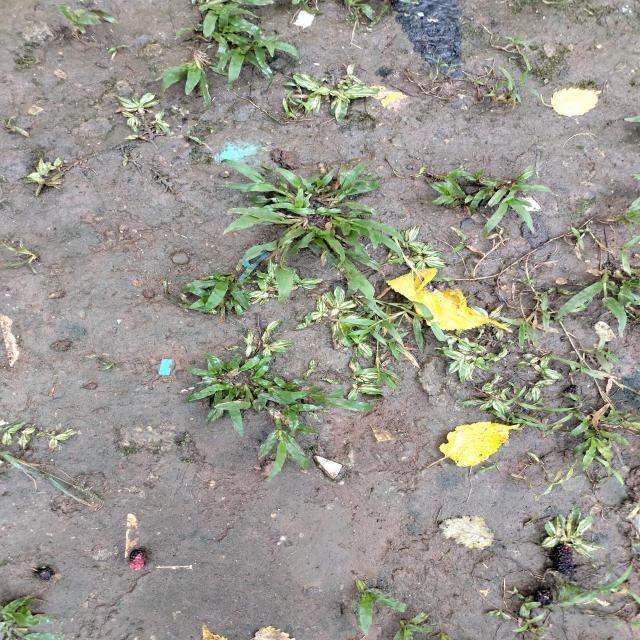rambat atas: (546, 561, 634, 608), (388, 302, 448, 356), (334, 311, 406, 348), (589, 231, 640, 279), (347, 354, 403, 396), (573, 332, 622, 376), (498, 300, 541, 348), (497, 62, 541, 104), (383, 331, 422, 363), (557, 356, 606, 381), (593, 455, 624, 489), (346, 324, 389, 346), (519, 411, 574, 428), (532, 468, 564, 497), (510, 610, 547, 634), (515, 400, 581, 412), (419, 53, 445, 82), (536, 292, 552, 335), (483, 78, 515, 98), (501, 385, 527, 407), (502, 33, 535, 50), (450, 225, 469, 253), (570, 225, 588, 251), (558, 390, 583, 408), (438, 62, 466, 78), (607, 619, 640, 631), (473, 461, 499, 476), (282, 98, 298, 119), (412, 166, 430, 184), (564, 458, 578, 481), (293, 98, 312, 114), (280, 82, 302, 93), (466, 74, 486, 86)
rambat bawah: (553, 267, 628, 338), (330, 208, 408, 266), (256, 411, 312, 483), (274, 221, 346, 272), (350, 576, 411, 636), (180, 271, 249, 324), (221, 206, 308, 248), (154, 53, 213, 110), (328, 160, 384, 218), (222, 158, 296, 200), (217, 46, 276, 93), (298, 167, 369, 204), (202, 2, 265, 42), (212, 383, 302, 411), (58, 1, 122, 39), (481, 197, 536, 240), (0, 596, 65, 628), (306, 386, 379, 413), (252, 34, 301, 70), (605, 196, 640, 242), (572, 434, 614, 471), (282, 403, 324, 439), (183, 381, 243, 405), (433, 167, 473, 200), (392, 611, 434, 640), (468, 179, 502, 213), (591, 408, 639, 432), (184, 355, 230, 380), (612, 269, 640, 310), (502, 184, 559, 204), (226, 352, 275, 374), (506, 164, 538, 196), (426, 181, 465, 207), (458, 167, 503, 187), (268, 187, 304, 211), (583, 429, 632, 446), (243, 363, 277, 387), (286, 206, 342, 217), (569, 406, 589, 436), (272, 374, 298, 392), (237, 264, 253, 290)
